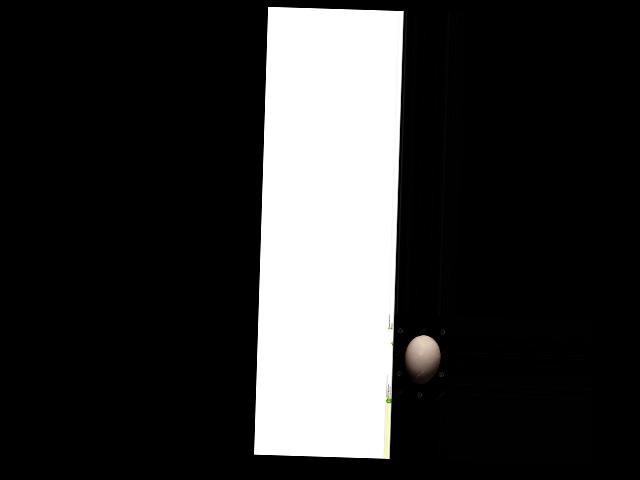egg: (403, 334, 440, 384)
